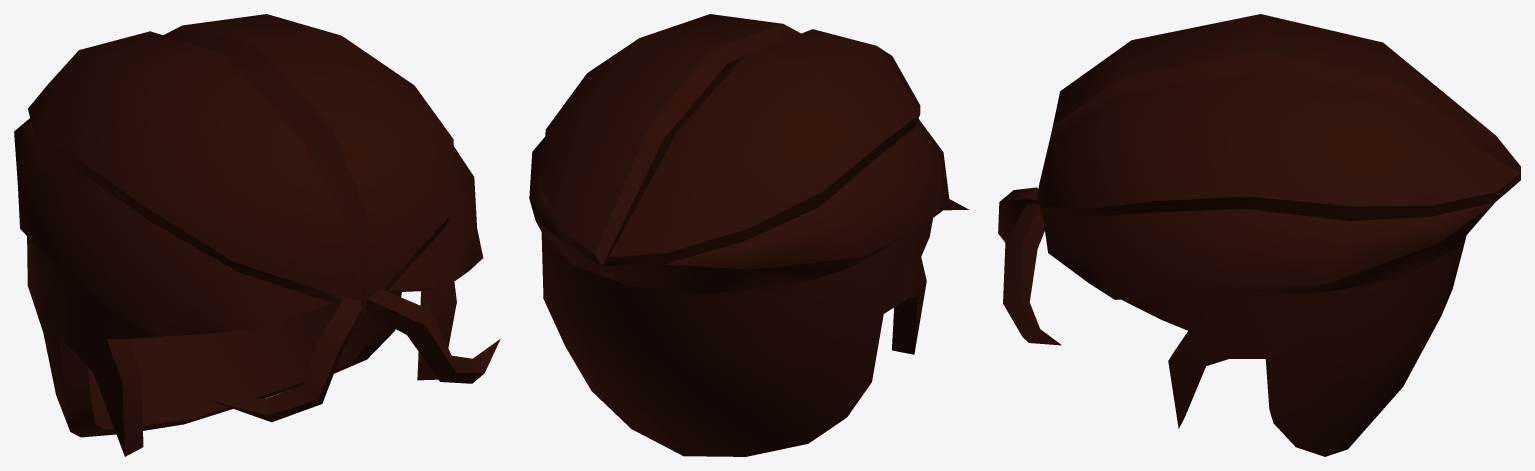
Rendered from Male CP Hair 04.FBX.
3 views of the same model, side by side, from view 1: azimuth 30°, elevation 25°; view 2: azimuth 150°, elevation 25°; view 3: azimuth 270°, elevation 25° (orthographic). The views are drawn at different scales.
Visible parts, largest first — view 1: Male CP Hair 04; view 2: Male CP Hair 04; view 3: Male CP Hair 04.
Part boxes in pixels (bbox=[...]): Male CP Hair 04: bbox=[14, 14, 500, 456]; Male CP Hair 04: bbox=[529, 14, 969, 456]; Male CP Hair 04: bbox=[998, 14, 1520, 456].
Size of the model in its own units: 49.22 by 50.28 by 63.68.
